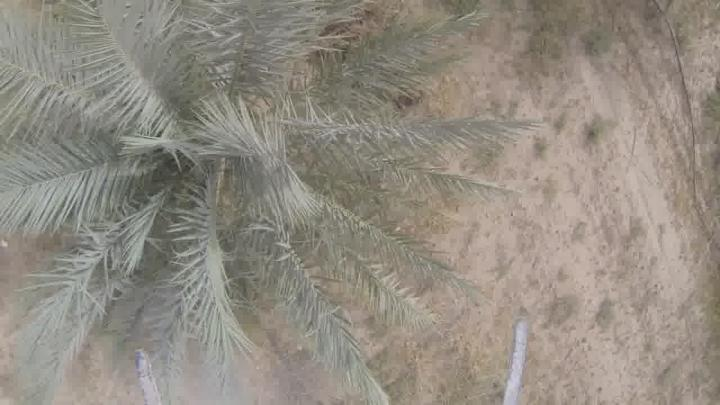Date-Palm-Crown: (13, 14, 334, 306)
